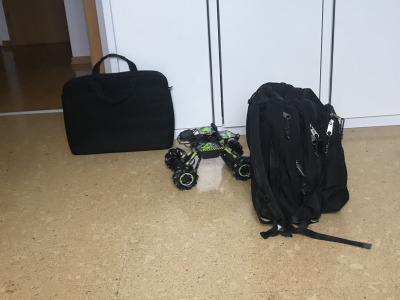remote control car: (163, 122, 253, 193)
